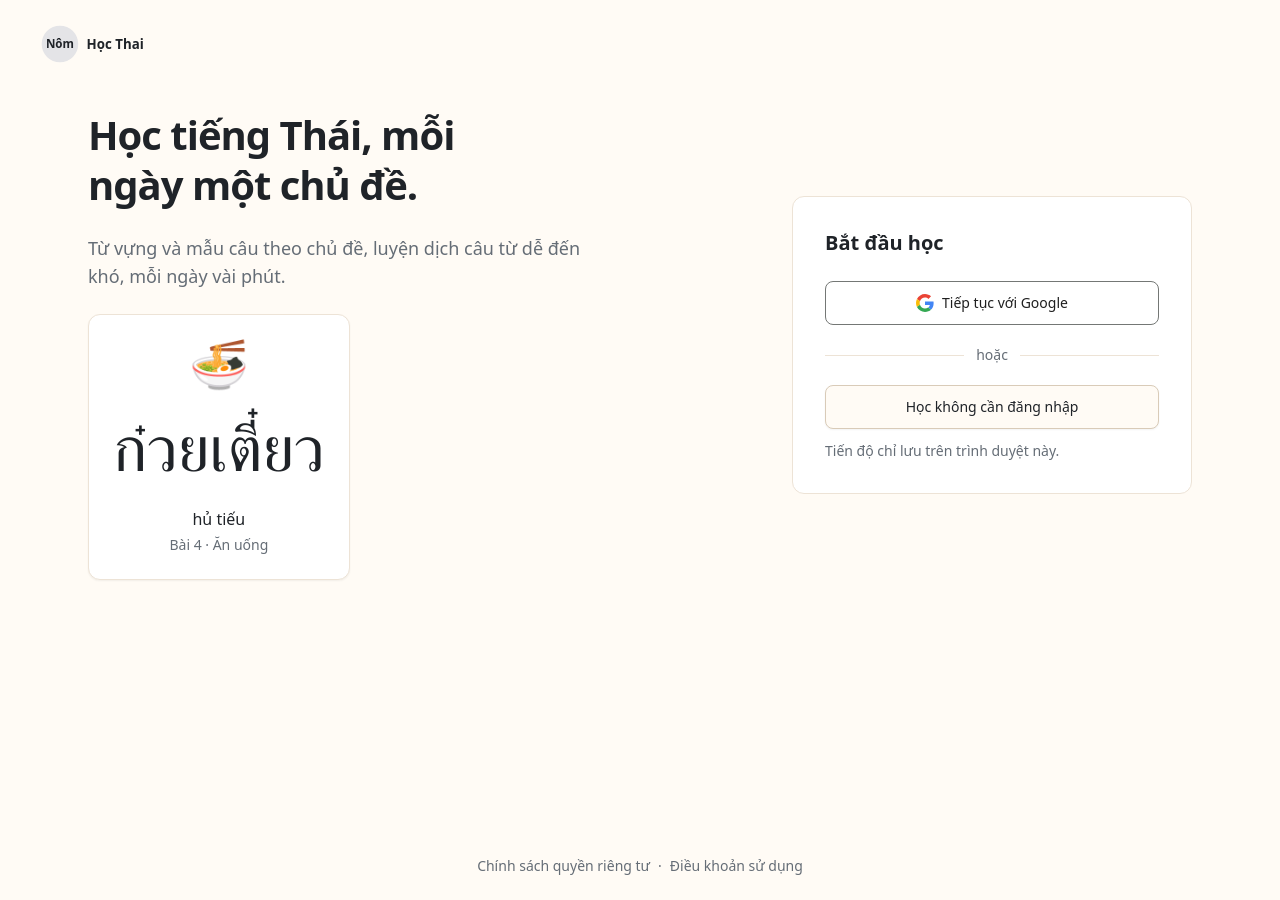
LoginPage (SCR-01) › huỷ popup → toast thông tin, ở lại /login
Click the button with test id "sign-in-google".
click(992, 303)  # box 825,281 -> 1159,325
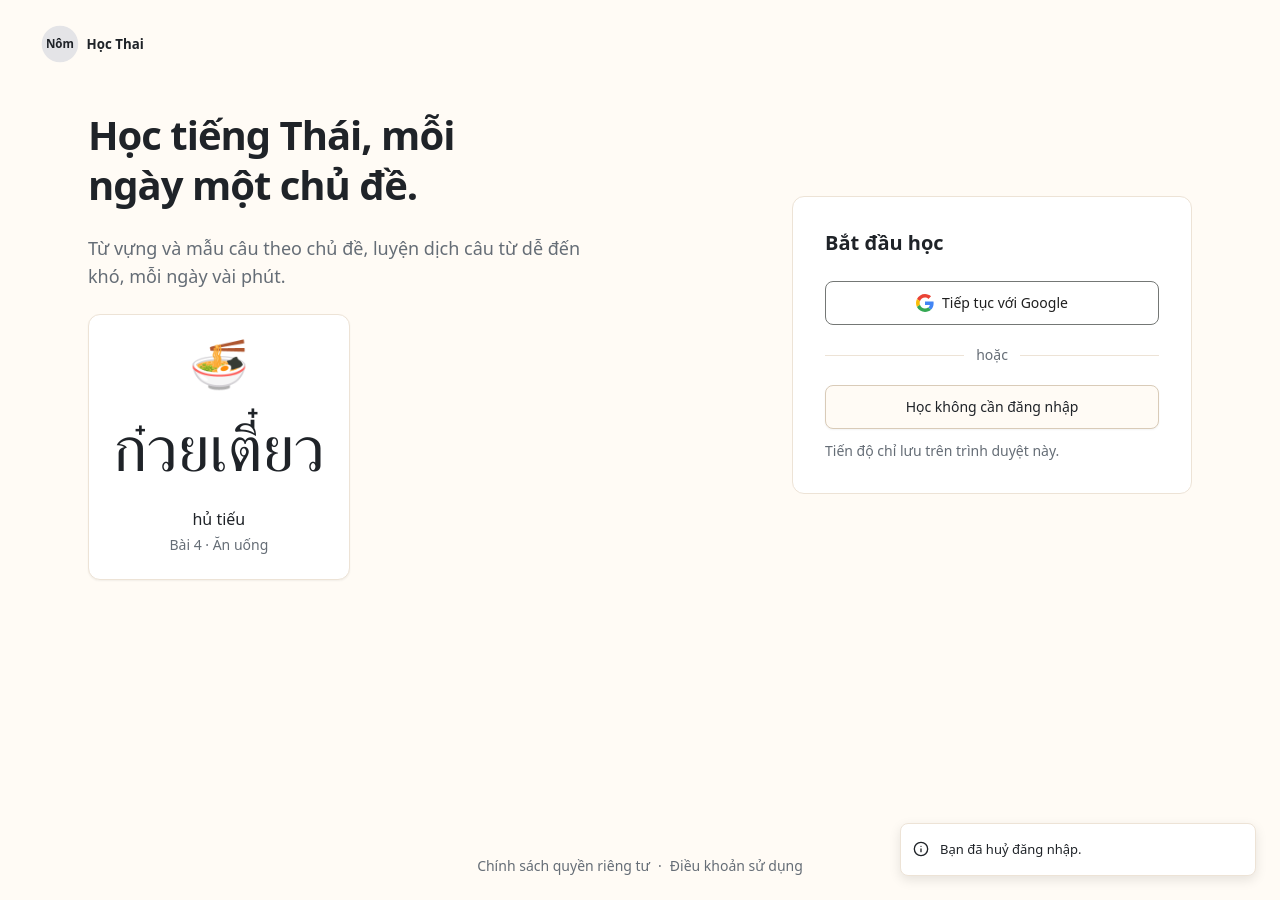
Result: the text "Bạn đã huỷ đăng nhập." is shown at 940,840 -> 1082,859
